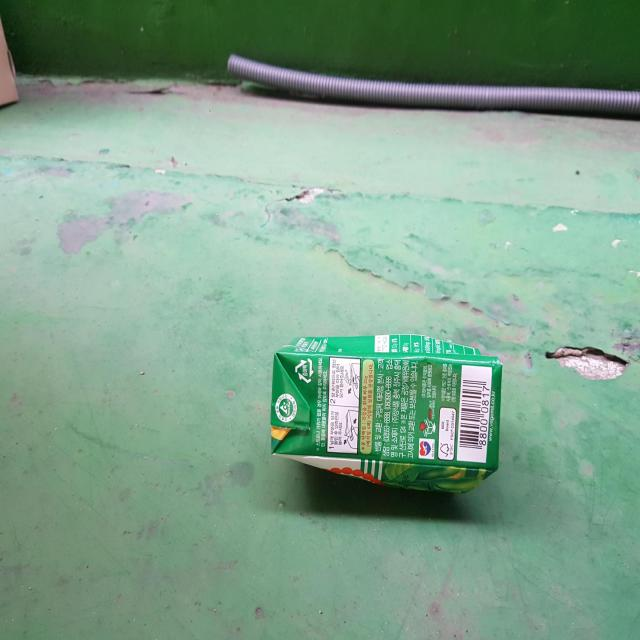paperpack: (270, 334, 503, 493)
